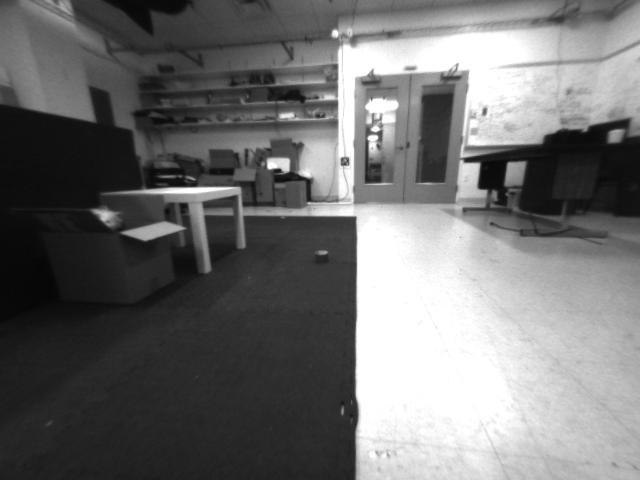dogtoy: (302, 239, 338, 267)
